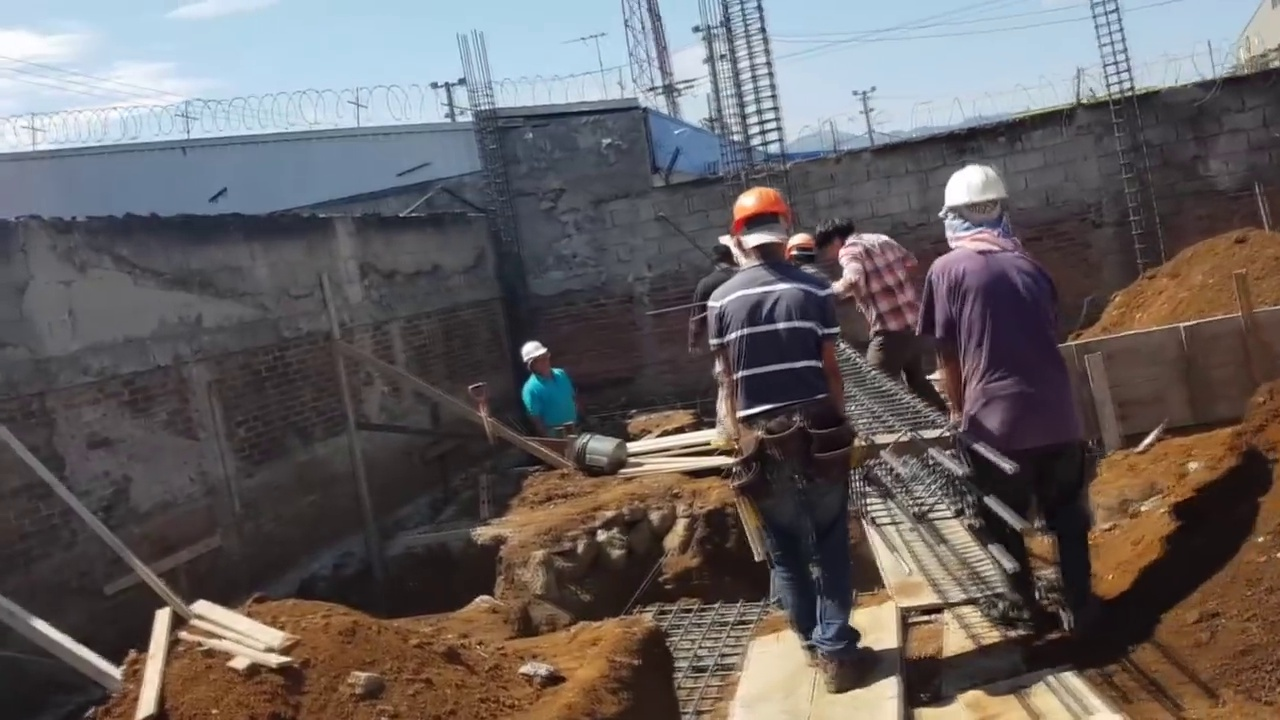helmet: (937, 163, 1008, 218), (730, 186, 791, 235), (785, 233, 815, 258), (520, 340, 548, 362)
helmet-off: (816, 218, 855, 260), (708, 244, 735, 269)
helmet-on: (938, 158, 1013, 249), (730, 185, 794, 263), (520, 341, 552, 379), (786, 233, 816, 267)
person: (917, 161, 1093, 663), (711, 189, 880, 697), (815, 215, 948, 410), (520, 341, 585, 439), (687, 239, 738, 343), (785, 232, 833, 290)
